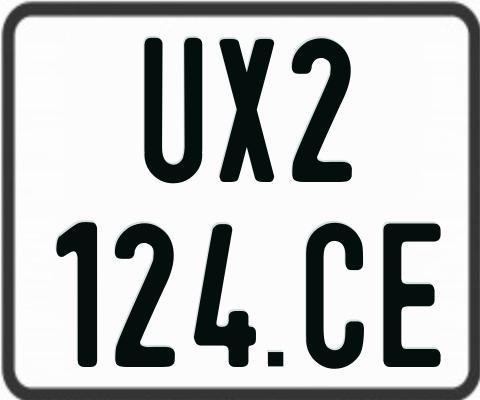1: (53, 221, 95, 367)
2: (291, 36, 355, 185), (115, 222, 177, 370)
4: (193, 224, 257, 369)
C: (303, 222, 363, 372)
E: (383, 223, 444, 373)
U: (141, 38, 205, 188)
X: (219, 38, 276, 186)
